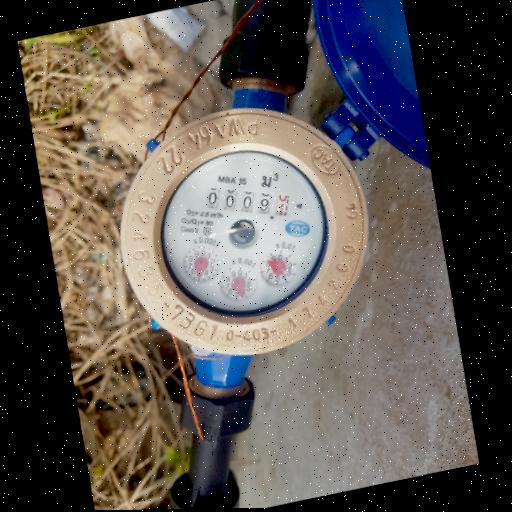0: (219, 186, 242, 214), (237, 188, 260, 215), (203, 185, 225, 211)
1: (271, 192, 294, 220)
9: (253, 189, 277, 217)
border_water_meter_number: (197, 164, 299, 237)
